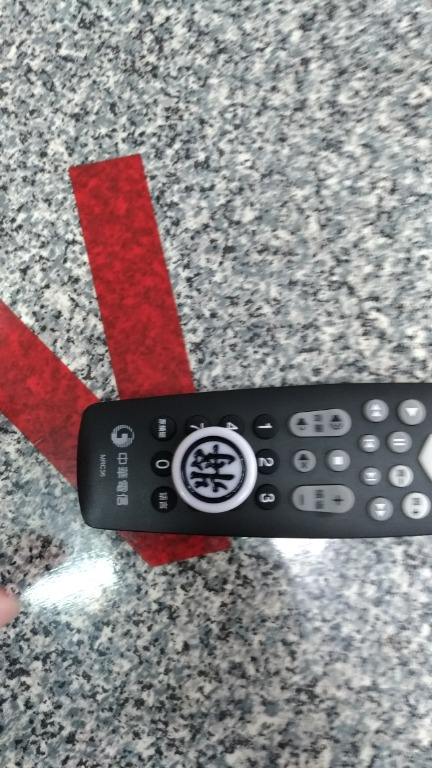b-king: (150, 421, 279, 522)
